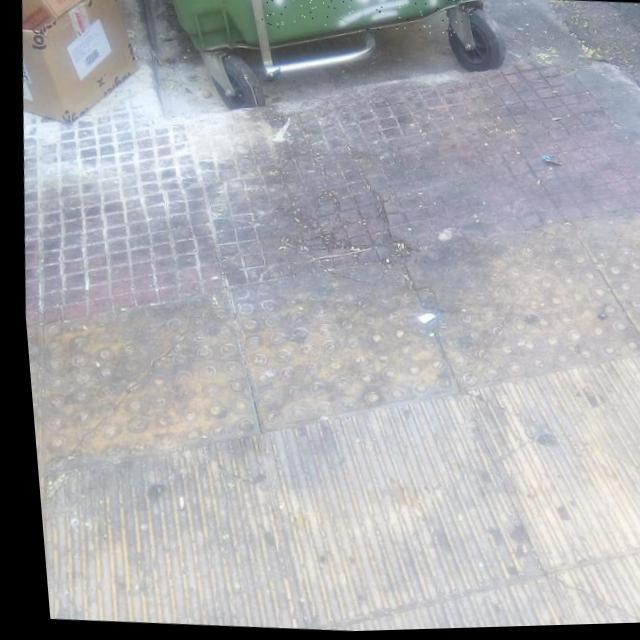-: (254, 0, 479, 44)
